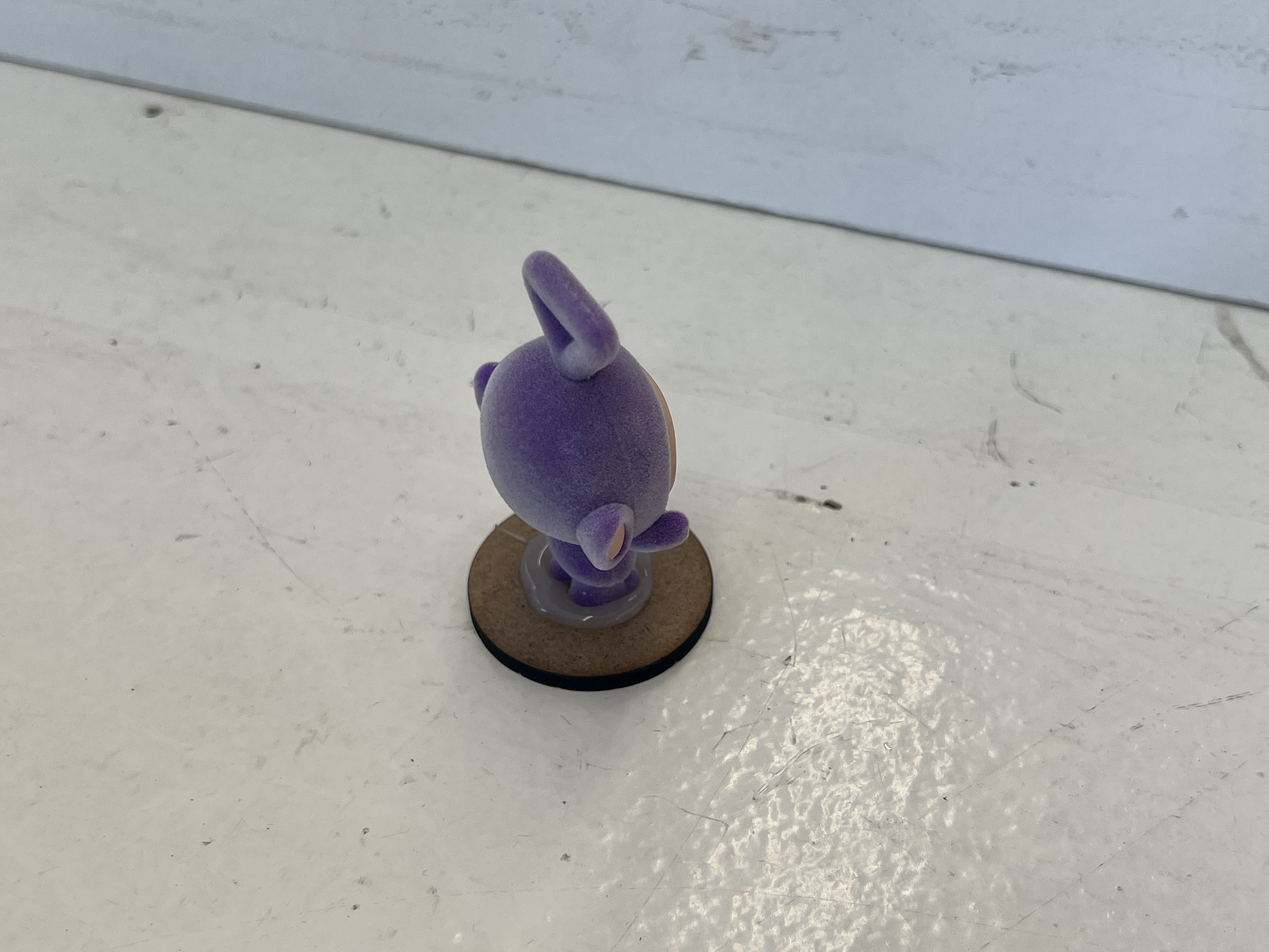teletubby: (473, 252, 688, 606)
